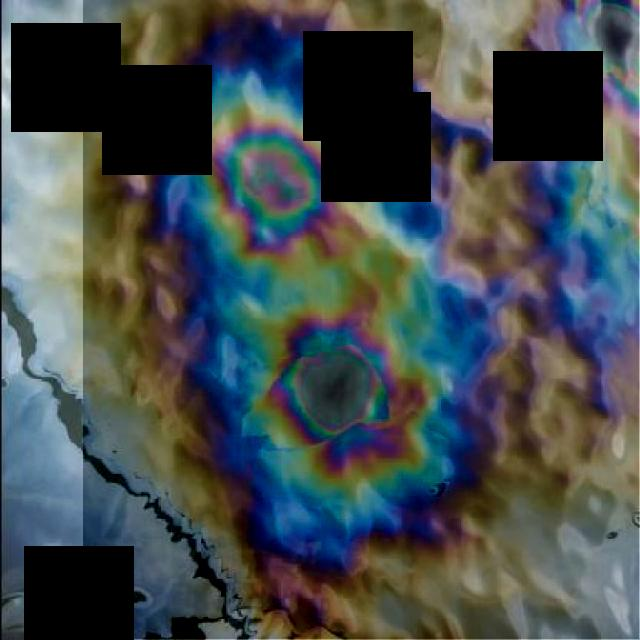oil spill: (83, 0, 640, 639)
